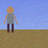person: (4, 7, 17, 32)
